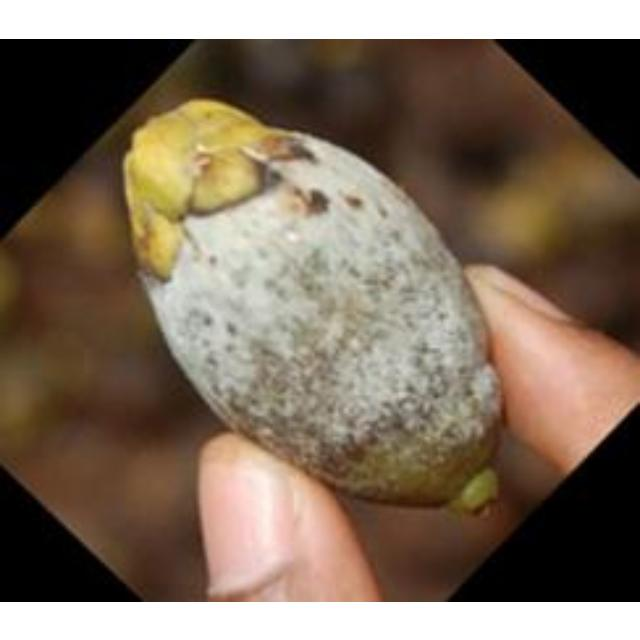damaged: (121, 101, 504, 513)
